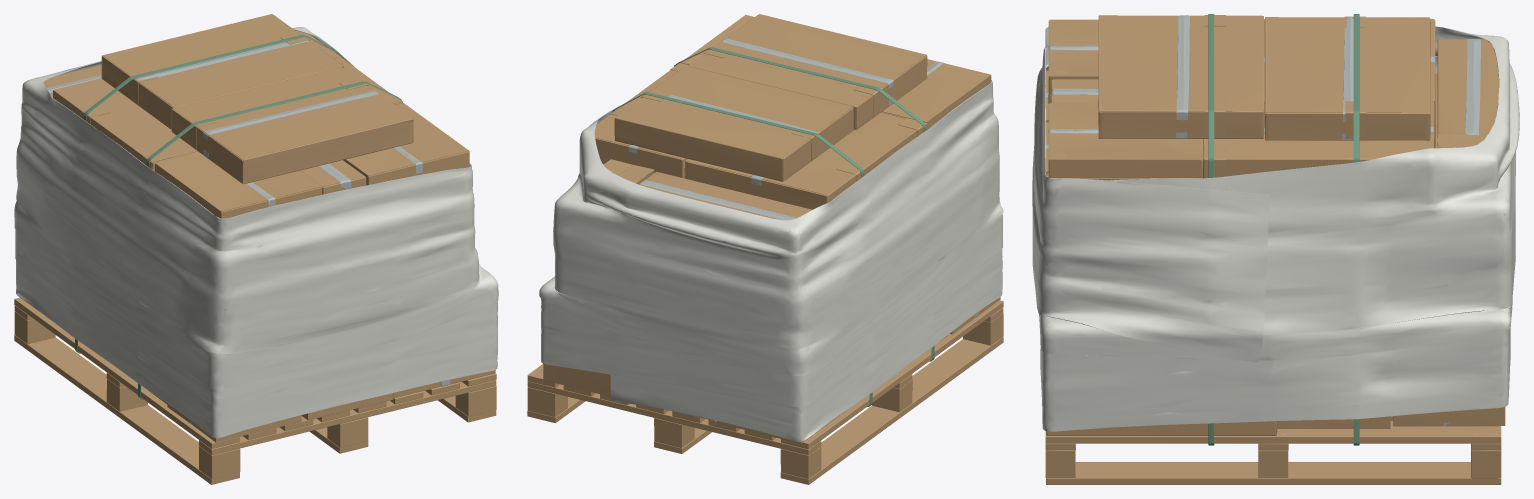
Rendered from pallet_assembly_white_e02.glb.
3 renders of one model, left to right at view 1: azimuth 30°, elevation 25°; view 2: azimuth 150°, elevation 25°; view 3: azimuth 270°, elevation 25°, orthographic. The views are drawn at different scales.
Bounding box in the file's own units: 1.04 × 0.9917 × 1.28.
